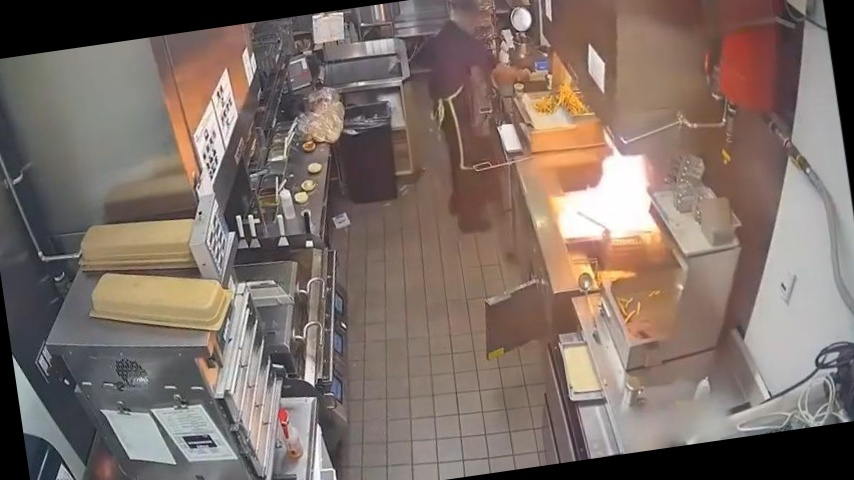fire: (542, 124, 674, 269)
